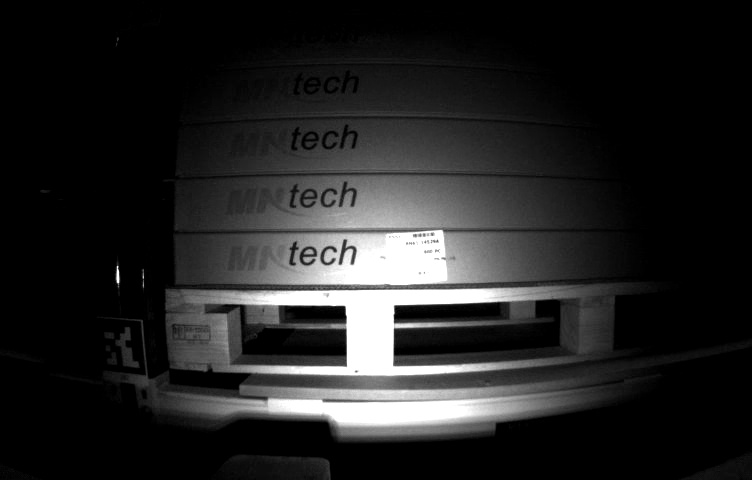True Barcode: (380, 225, 452, 286)
